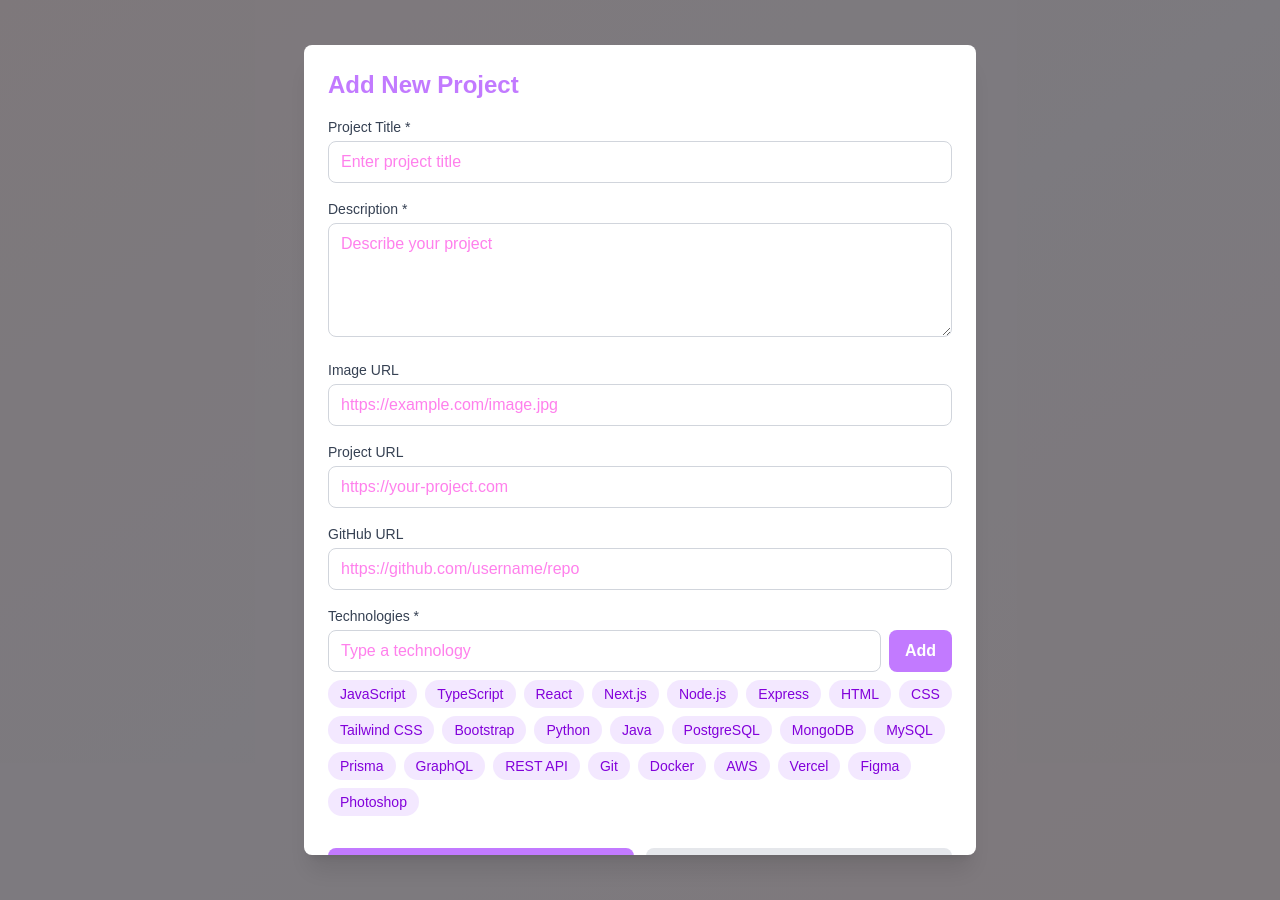
Form Integration Tests › should show loading state during submission
# Fill required fields
Type "Test Project" into the field labelled "Project Title *" at (640, 162), box [328, 141, 952, 183]
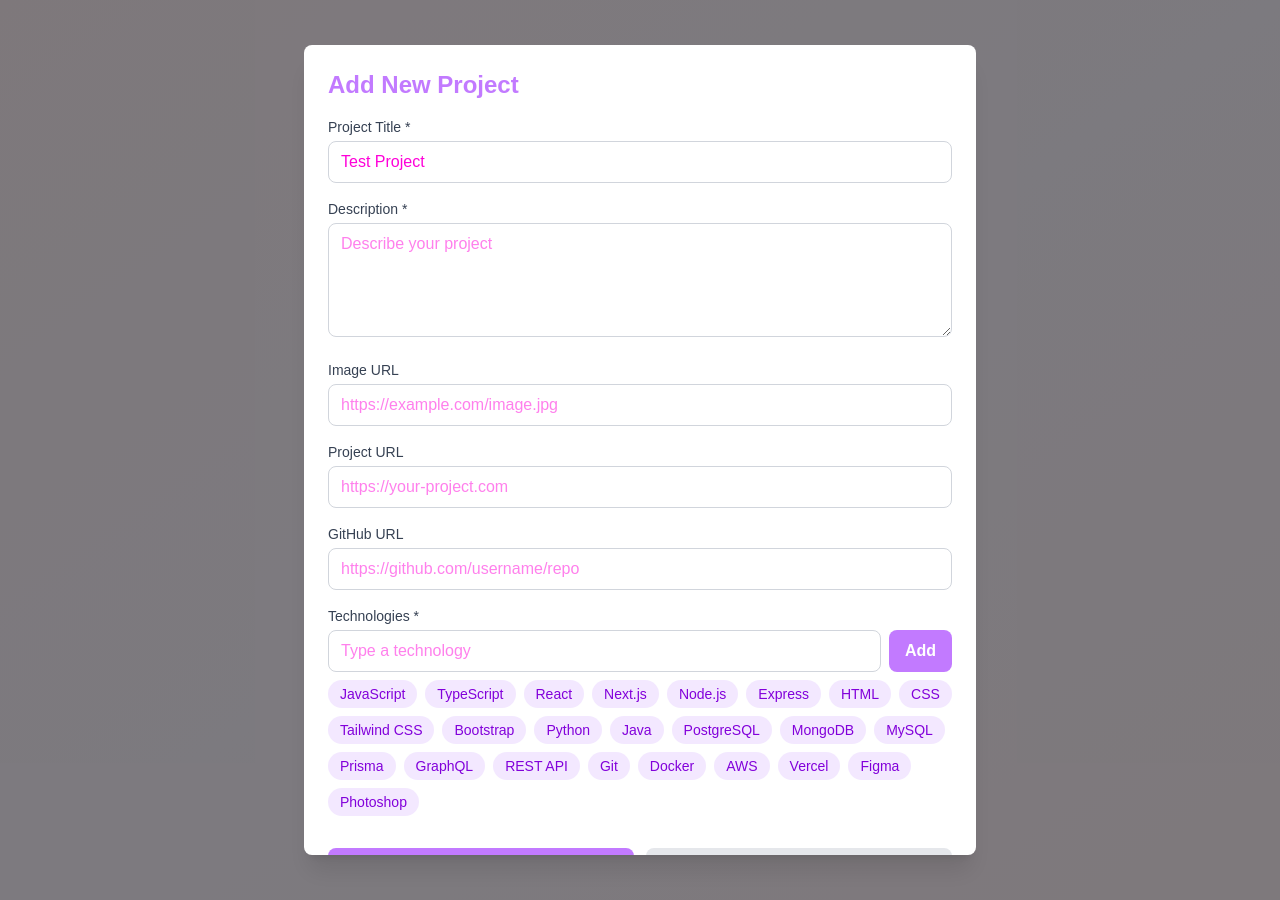
Type "Test description" into the text box labelled "Description *" at (640, 280), box [328, 223, 952, 337]
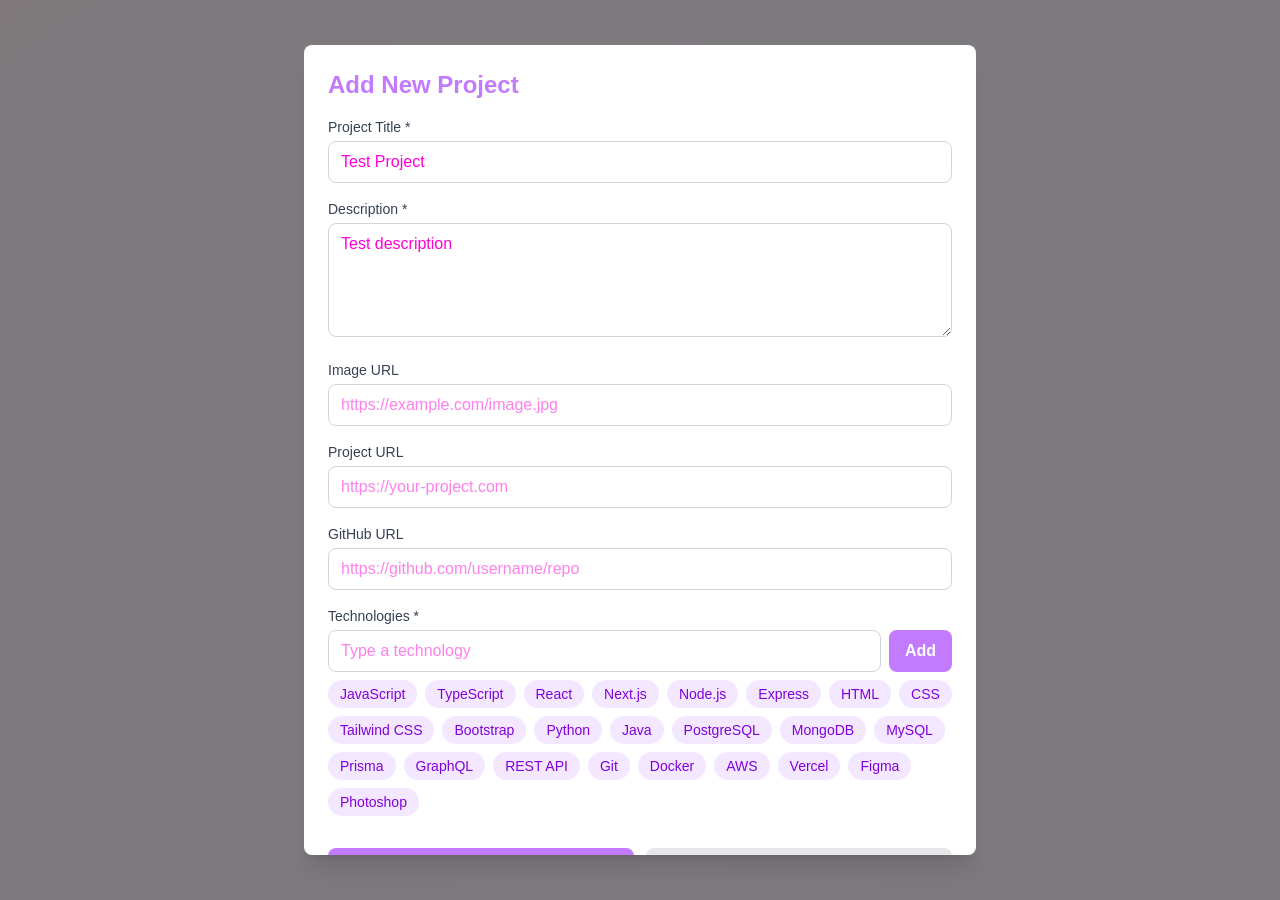
# Add a technology
Type "React" into the field with placeholder "Type a technology" at (604, 651), box [328, 630, 881, 672]
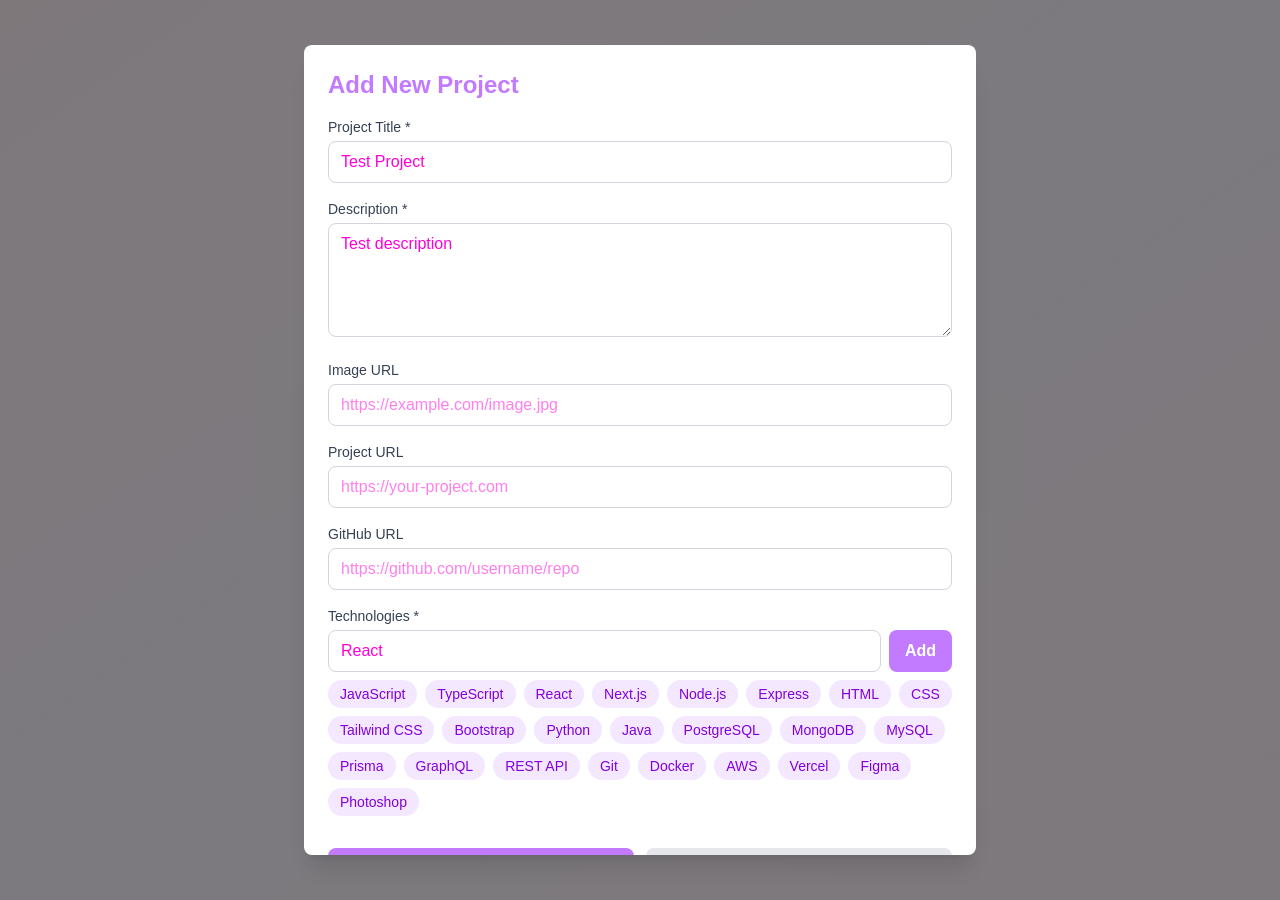
Click the button "Add" at (920, 651), box [889, 630, 952, 672]
(page scrolled)
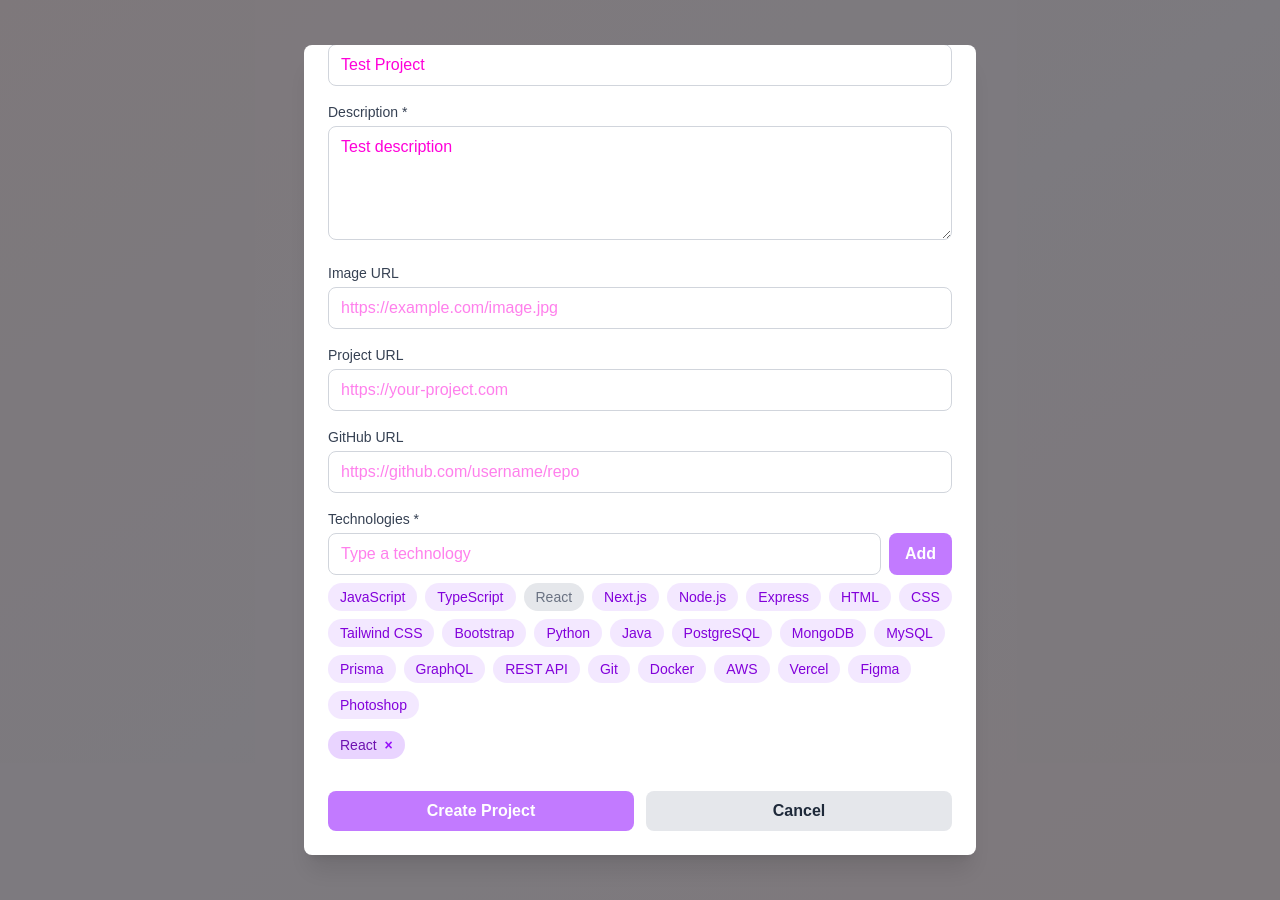
Click the button "Create Project" at (481, 811), box [328, 791, 634, 831]
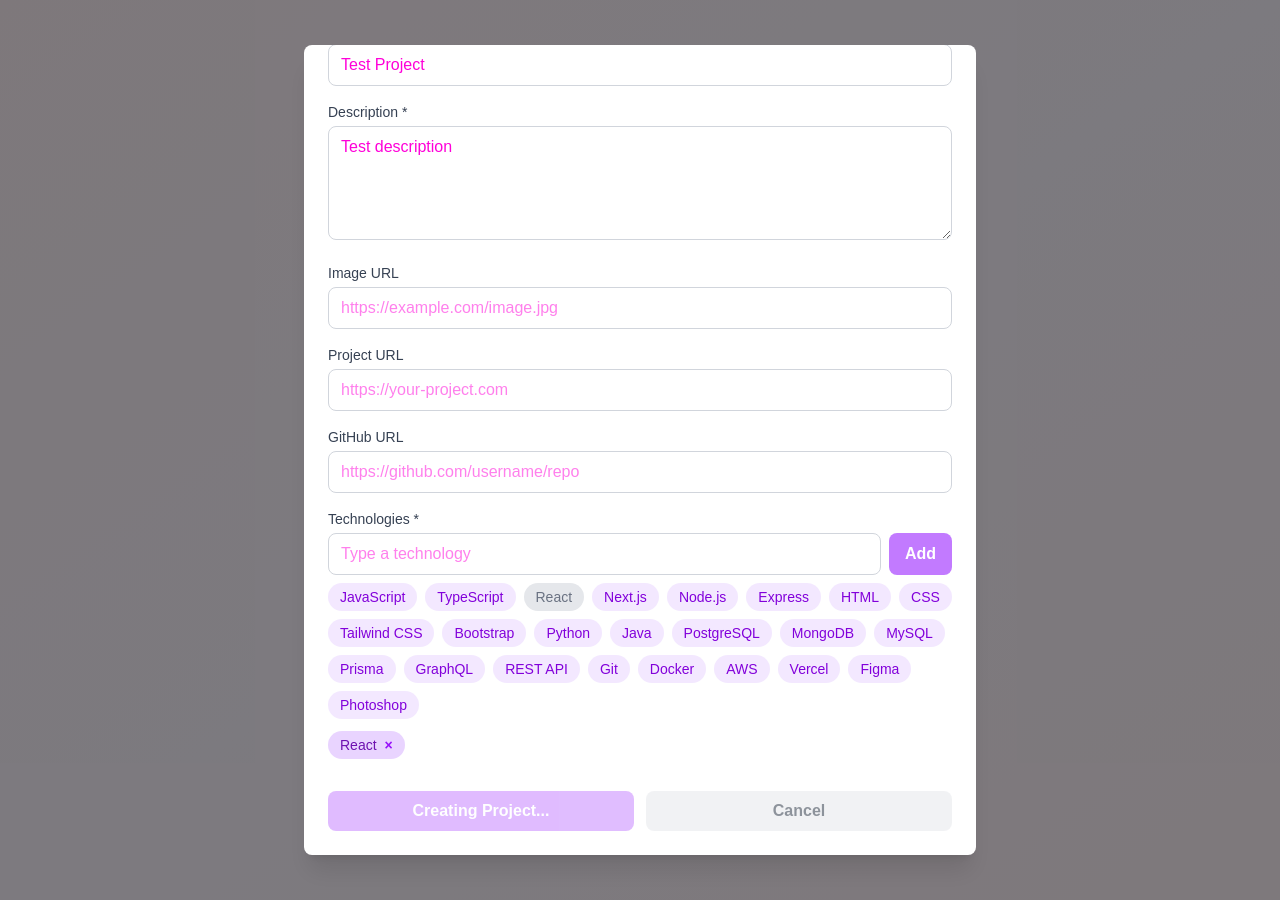
expect the button "Creating Project..." is disabled: met, box [328, 791, 634, 831]
